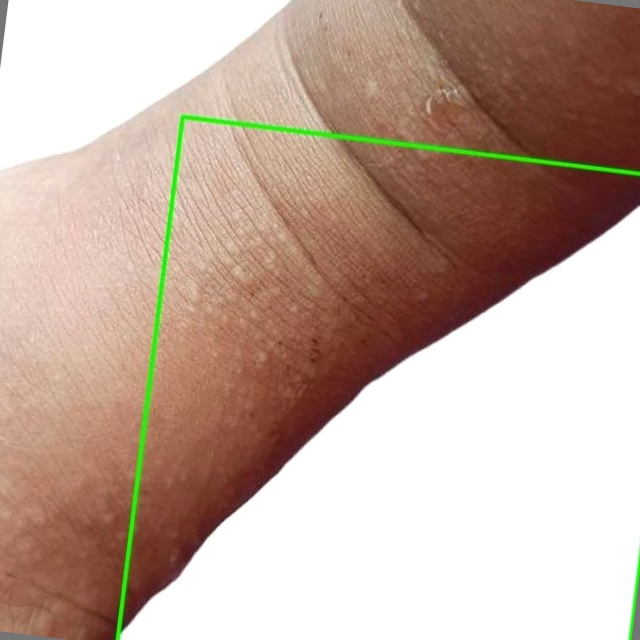Scabies: (117, 116, 639, 639)
